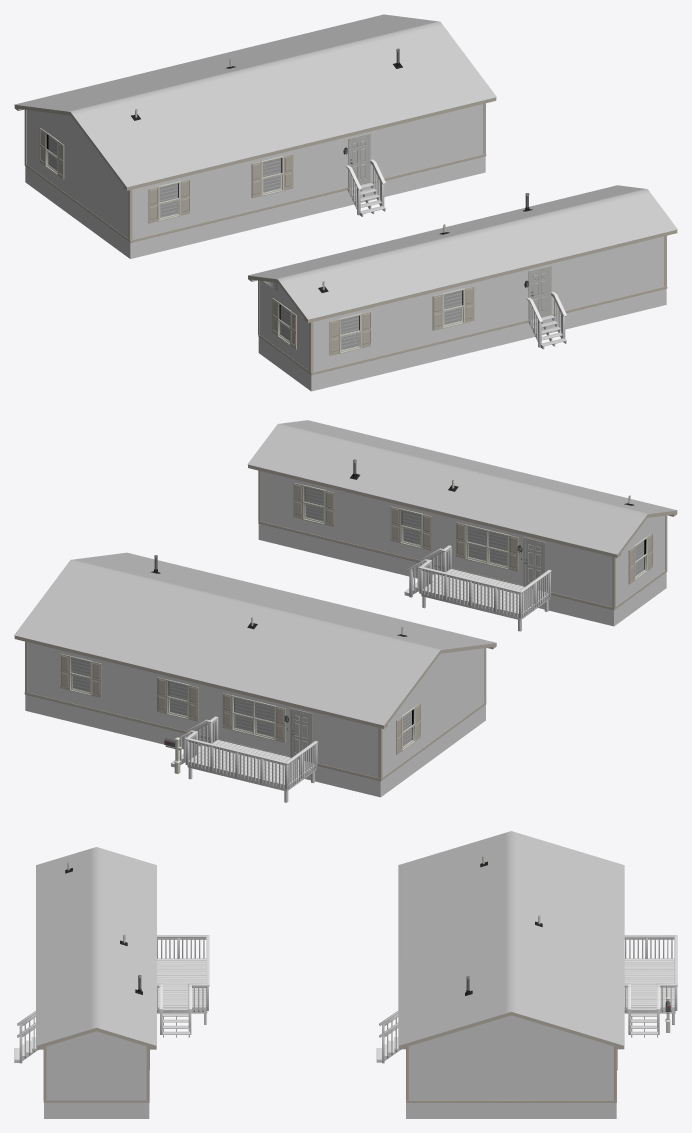
Rendered from trailer-homes.fbx.
3 views of the same model, one above another, from view 1: azimuth 30°, elevation 25°; view 2: azimuth 150°, elevation 25°; view 3: azimuth 270°, elevation 25° (orthographic).
Visible parts, largest first — view 1: 39, 213, 22, 202, 5, 194, 89, 237, 245, 106, 56, 221 (+2 smaller); view 2: 39, 213, 22, 202, 89, 237, 5, 261, 139, 106, 245, 194 (+2 smaller); view 3: 39, 213, 22, 202, 139, 261, 5, 221, 56, 89, 194, 237.
Part boxes in pixels (x1,y1,x2,y2): 39: (15,14,496,187); 213: (248,185,677,319); 22: (26,104,483,239); 202: (260,236,664,372); 5: (25,156,485,258); 194: (258,289,666,391); 89: (14,97,496,242); 237: (248,230,677,375); 245: (277,193,551,353); 106: (45,48,402,221); 56: (68,21,442,115); 221: (276,188,650,282); 39: (14,552,496,725); 213: (247,420,676,554); 22: (27,642,484,777); 202: (261,471,665,606); 89: (14,636,496,781); 237: (248,465,677,610); 5: (25,694,485,797); 261: (404,545,551,631); 139: (170,716,318,802); 106: (69,555,415,762); 245: (302,459,647,591); 194: (258,524,666,626); 39: (398,833,624,1045); 213: (36,848,156,1045); 22: (409,1015,613,1099); 202: (46,1031,146,1100); 139: (376,935,677,1063); 261: (14,935,209,1063); 5: (406,1102,616,1118); 221: (90,847,102,1029); 56: (505,831,517,1013); 89: (398,1012,624,1102); 194: (44,1102,149,1118); 237: (36,1028,156,1102).
Bounding box in the file's own units: 1650 × 489 × 2561.
